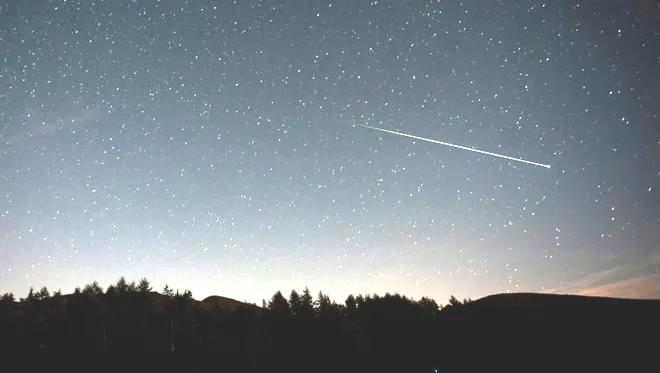meteorite: (341, 116, 555, 170)
